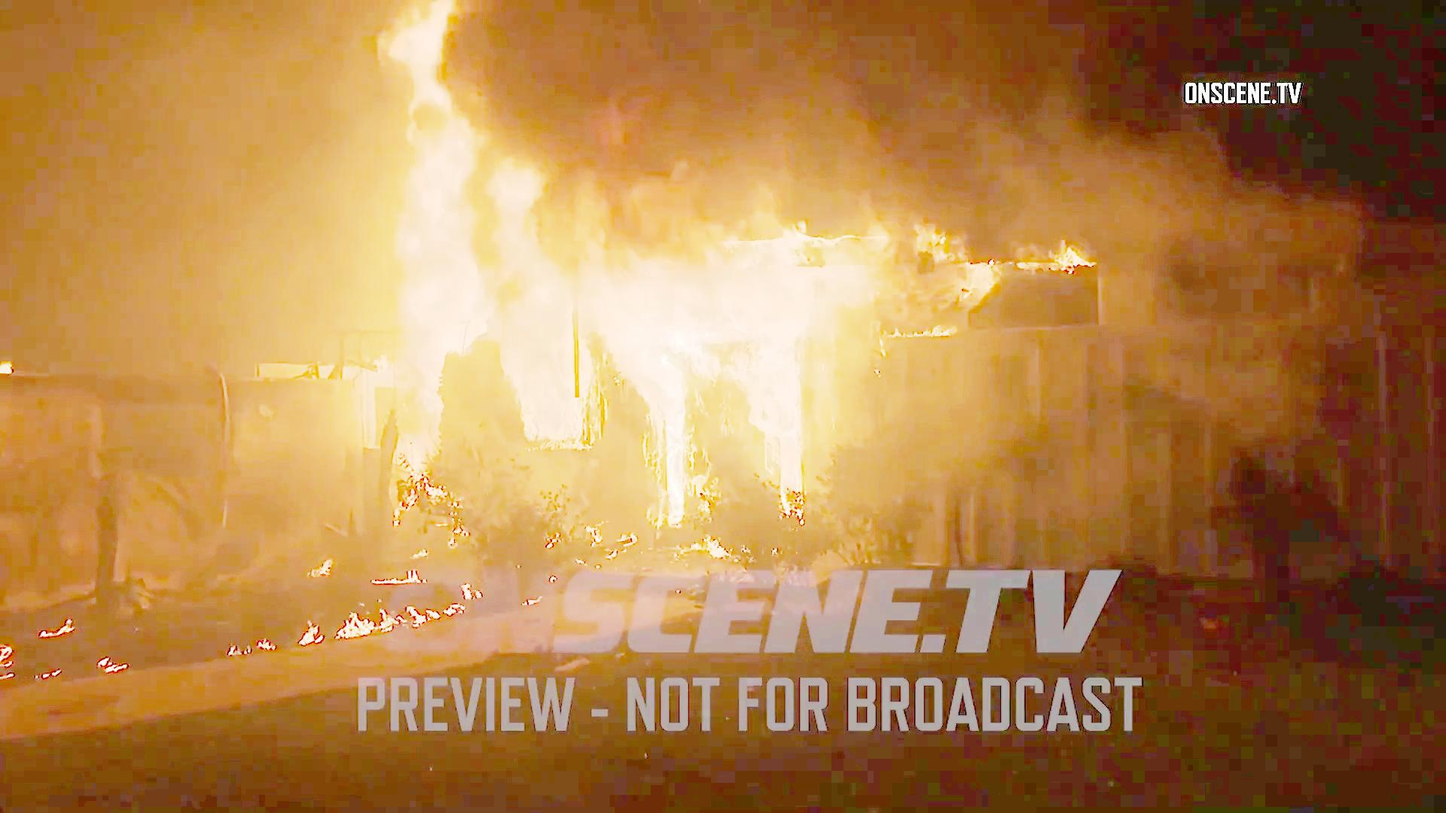fire: (369, 30, 822, 503)
